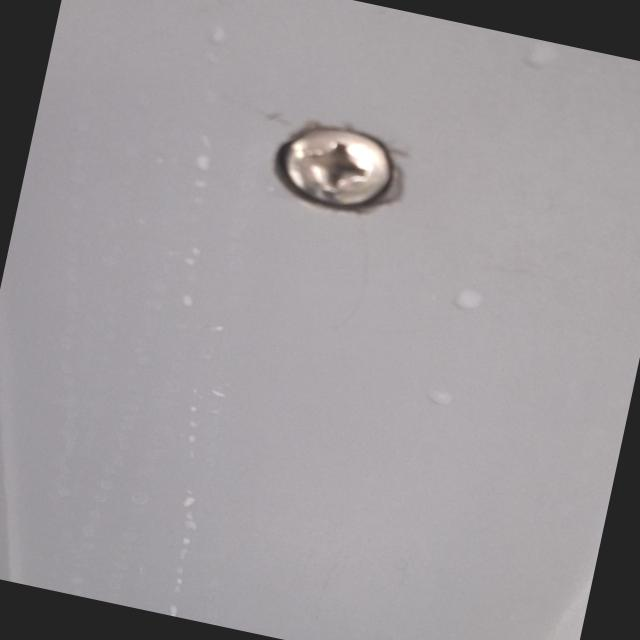Phillips: (263, 110, 427, 233)
